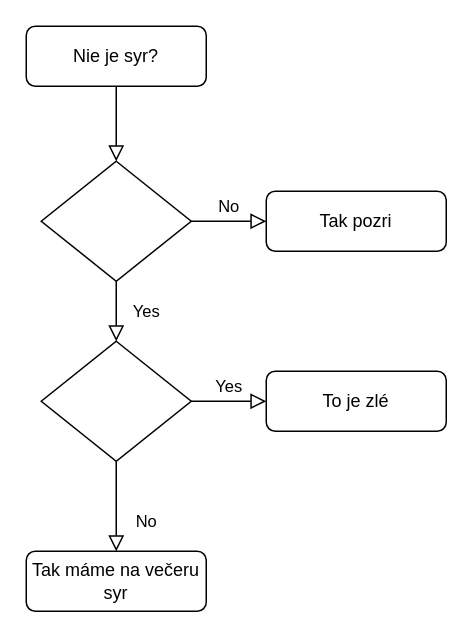
Image size: 473x638. Some labels were removed from this diagram. The box of each missing label's shape, as (x1, y1, x2, y2) in pixels:
A v špajze si pozeral?: (40, 160, 191, 281)
Je pokazený?: (40, 340, 191, 461)
